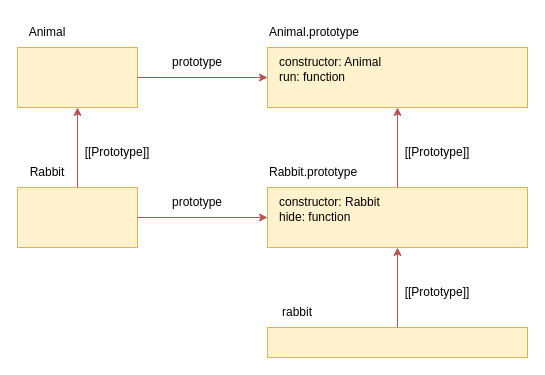
Image size: 545x375. Some labels were removed from this diagram. The centre of each missing label's shape, as x and y in pixels:
compareBySpeed: pixel 77 77
name: "White Rabbit": pixel 397 342
